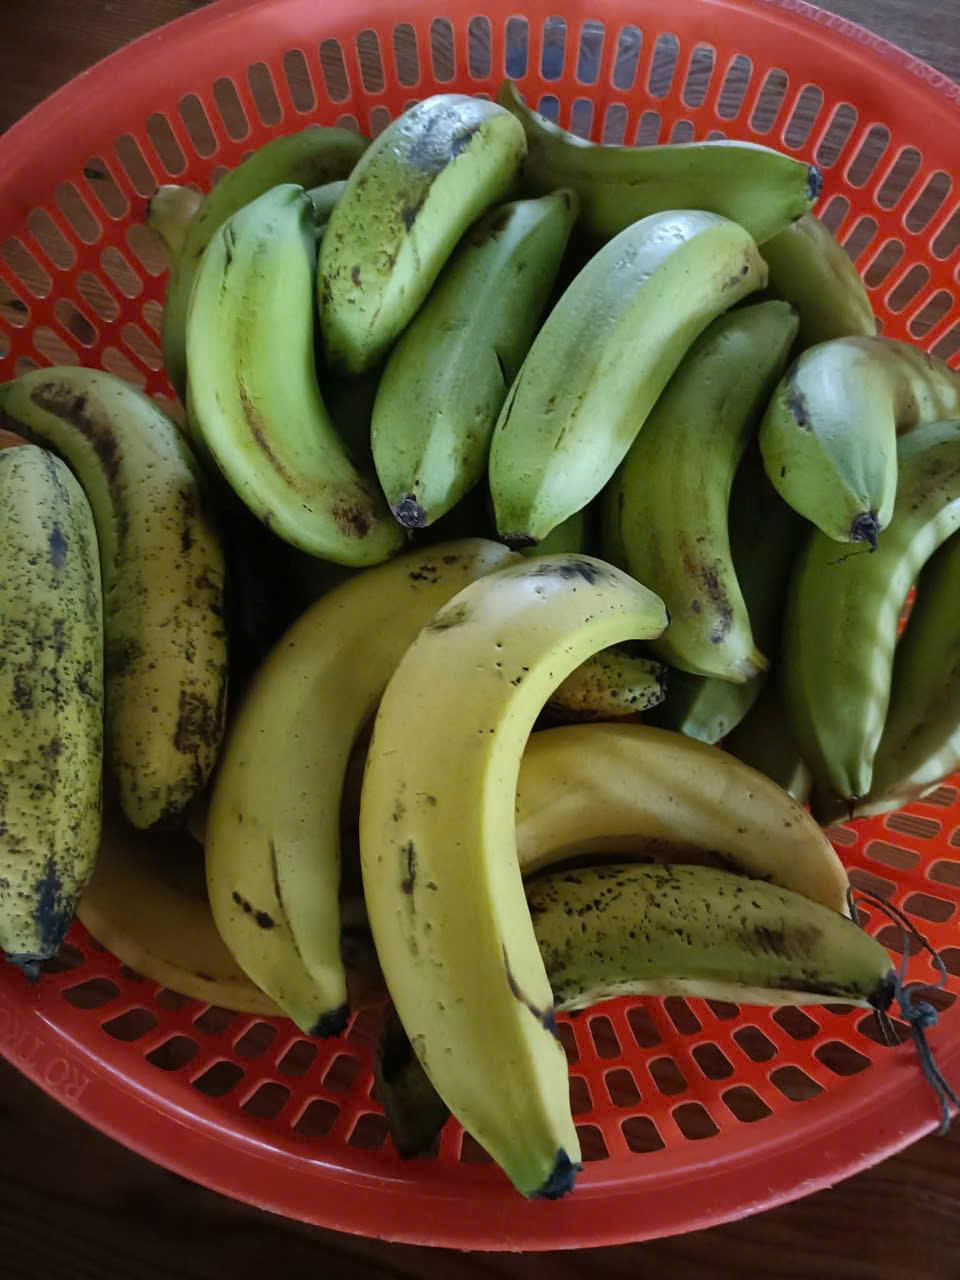banana: (263, 470, 656, 1220), (623, 179, 960, 741), (194, 84, 564, 536), (0, 334, 228, 992), (536, 707, 917, 1075)
